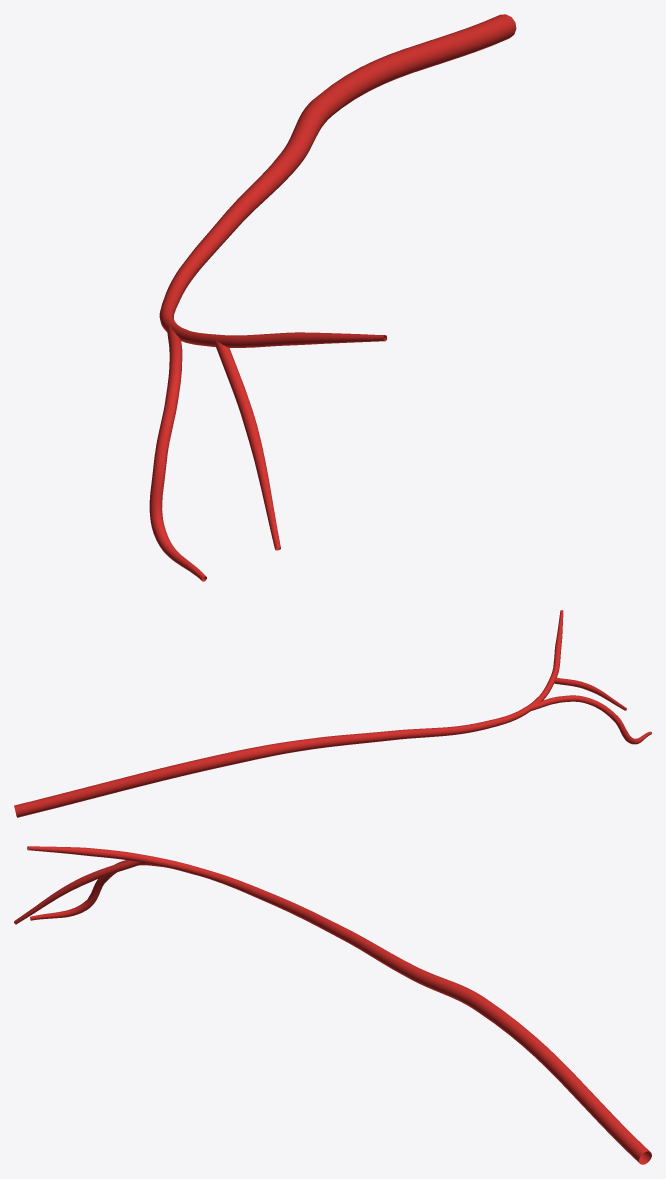
File: circulatorio-lacrimal-artery-r.glb
The picture shows the model from 3 angles, top to bottom: view 1: azimuth 30°, elevation 25°; view 2: azimuth 150°, elevation 25°; view 3: azimuth 270°, elevation 25°; orthographic projection. The views are drawn at different scales.
Visible parts, largest first — view 1: Lacrimal artery.r; view 2: Lacrimal artery.r; view 3: Lacrimal artery.r.
Part boxes in pixels (x1,y1,x2,y2): Lacrimal artery.r: (149, 14, 516, 581); Lacrimal artery.r: (14, 610, 651, 817); Lacrimal artery.r: (14, 846, 651, 1164).
Size of the model in its own units: 0.029 by 0.00717 by 0.0316.
